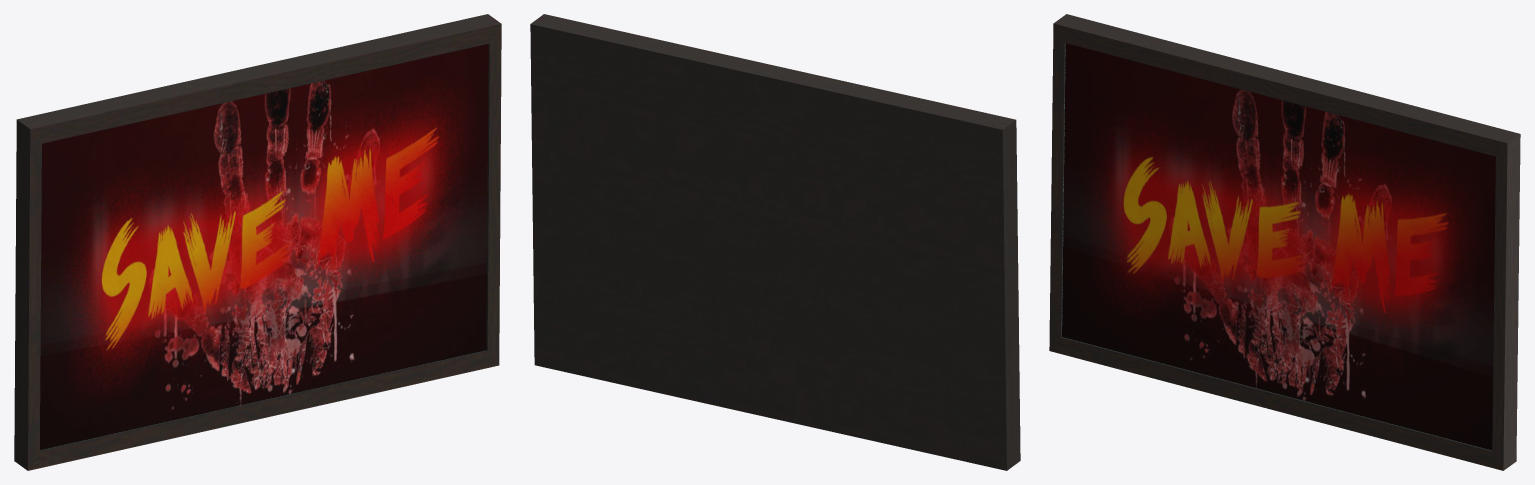
Rendered from Mirror.fbx.
The picture shows the model from 3 angles, left to right: view 1: azimuth 30°, elevation 25°; view 2: azimuth 150°, elevation 25°; view 3: azimuth 330°, elevation 25°; orthographic projection. The views are drawn at different scales.
Parts seen in each view (by area): view 1: polySurface4, Mirror; view 2: Mirror; view 3: polySurface4, Mirror.
Boxes of the visible parts, x1=… form: polySurface4: x1=40, y1=44, x2=488, y2=449; Mirror: x1=14, y1=14, x2=501, y2=470; Mirror: x1=530, y1=14, x2=1020, y2=470; polySurface4: x1=1062, y1=43, x2=1495, y2=450; Mirror: x1=1049, y1=14, x2=1520, y2=470.
Size of the model in its own units: 72.81 by 51.28 by 3.86.
1 material, 1 textured.
